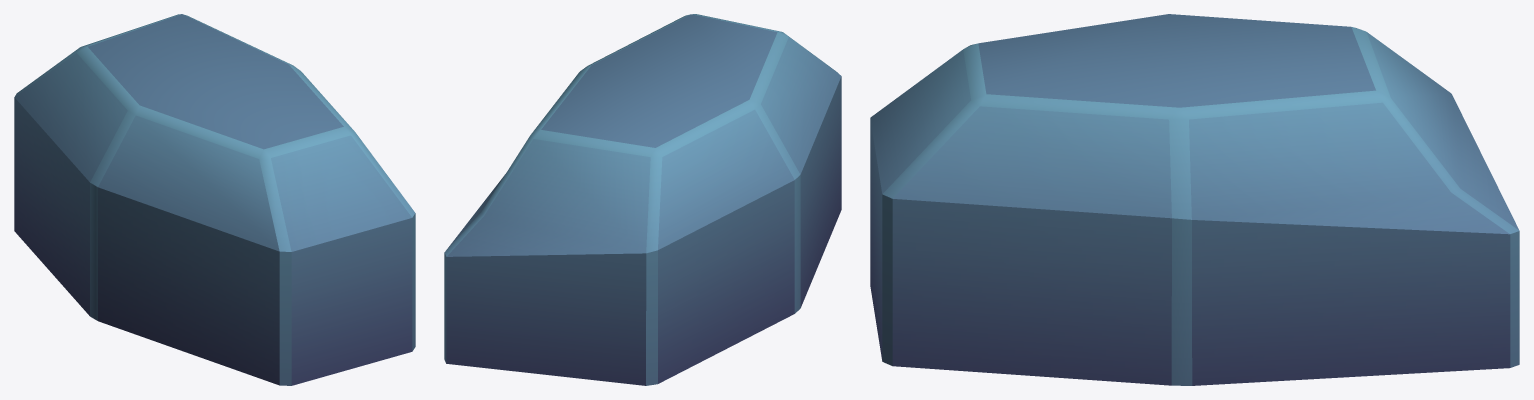
The model's file is Rock-3-6.fbx.
3 renders of one model, left to right at view 1: azimuth 30°, elevation 25°; view 2: azimuth 150°, elevation 25°; view 3: azimuth 270°, elevation 25°, orthographic. The views are drawn at different scales.
Parts seen in each view (by area): view 1: Rock-3-6; view 2: Rock-3-6; view 3: Rock-3-6.
Part boxes in pixels (x1,y1,x2,y2): Rock-3-6: (14, 14, 415, 385); Rock-3-6: (444, 14, 841, 385); Rock-3-6: (870, 14, 1519, 385).
Size of the model in its own units: 97.84 by 76.64 by 180.
